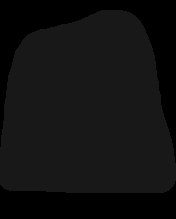fp: (1, 7, 173, 195)
